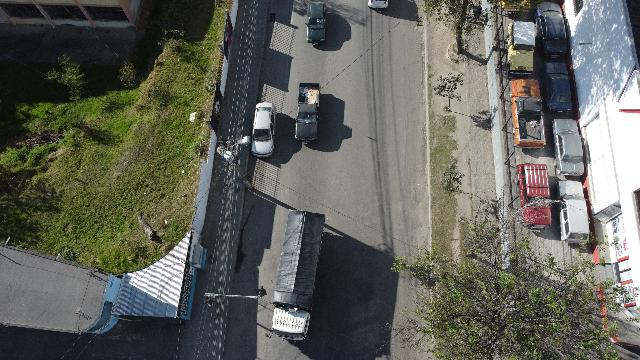Vehiculo: (510, 78, 546, 148), (518, 164, 551, 229), (556, 180, 589, 243), (552, 118, 584, 176), (535, 1, 567, 58), (507, 21, 535, 75), (294, 84, 320, 142), (250, 102, 276, 158), (544, 62, 572, 114), (306, 2, 326, 44), (368, 0, 388, 8)
